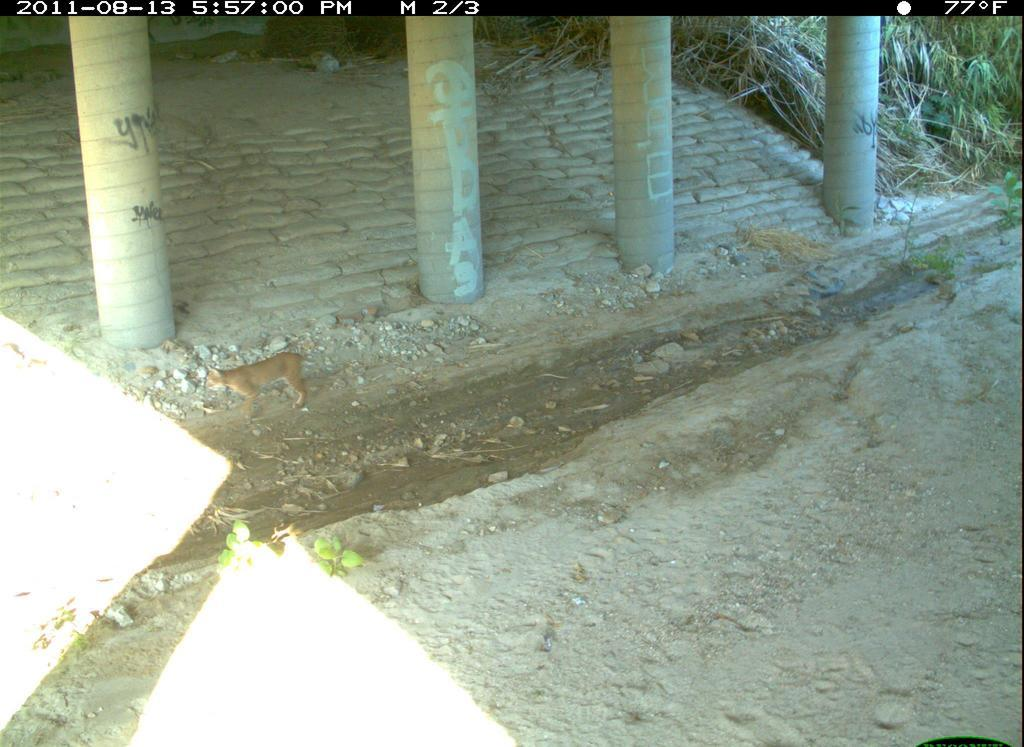bobcat: (403, 693, 626, 747)
